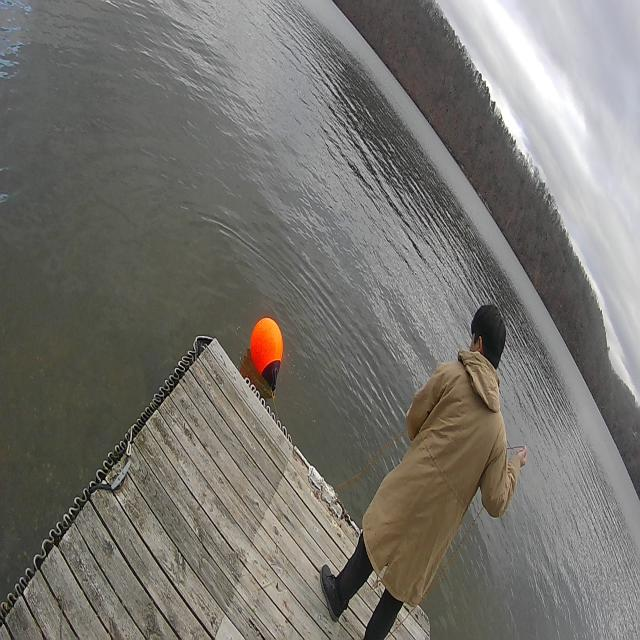Buoy: (246, 300, 291, 404)
